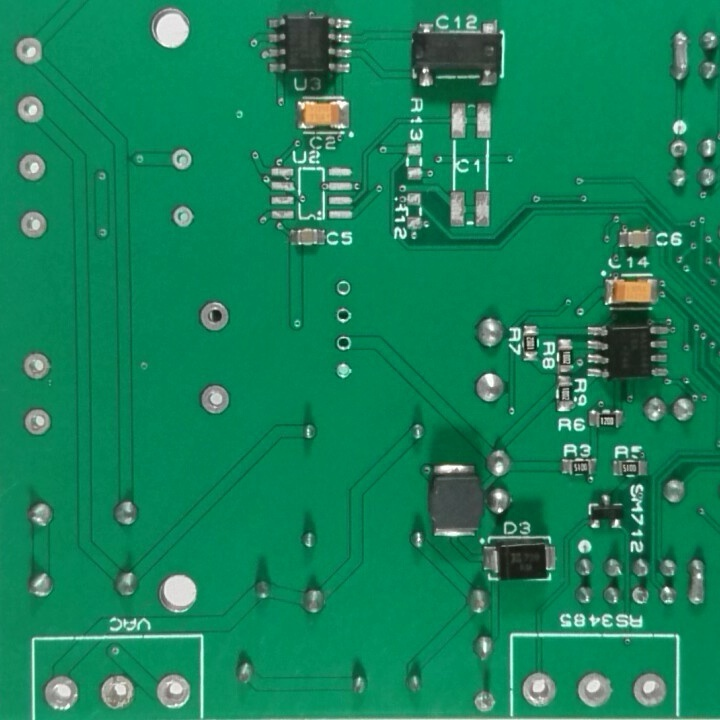F: (38, 669, 84, 714), (628, 666, 671, 710), (572, 668, 616, 711), (153, 670, 196, 714), (98, 671, 140, 711), (519, 667, 559, 707), (12, 91, 50, 130), (197, 300, 235, 336), (19, 403, 55, 440), (17, 207, 53, 242), (16, 151, 50, 187), (20, 351, 55, 385), (198, 380, 231, 416), (13, 35, 47, 69), (169, 202, 199, 231), (470, 686, 499, 715), (629, 586, 650, 616), (330, 278, 354, 302), (170, 149, 194, 172), (668, 137, 690, 161), (333, 333, 354, 356), (333, 358, 353, 382), (333, 307, 355, 326)
P: (668, 26, 693, 86), (685, 552, 708, 615)
